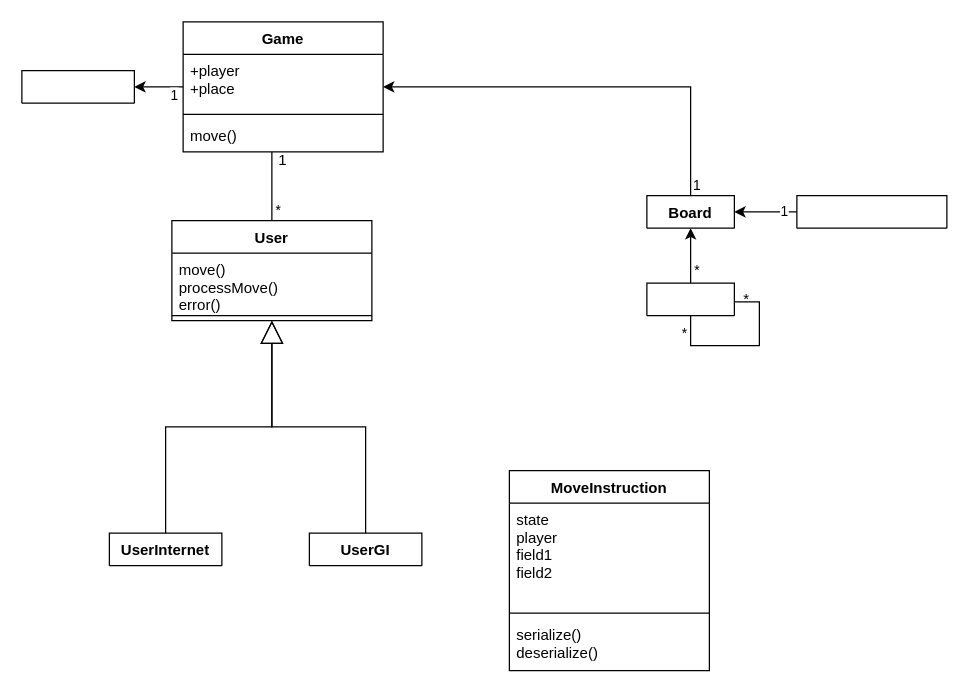
Image size: 969x696. Some labels were removed from this diagram. The shapes that lost their labels are listed below. From the top down, each one's box as (x1, y1, x2, y2) in pixels, then its label:
(21, 69, 134, 103): EntryPoint
(796, 194, 947, 228): FieldsConstructor
(646, 282, 734, 316): Field
